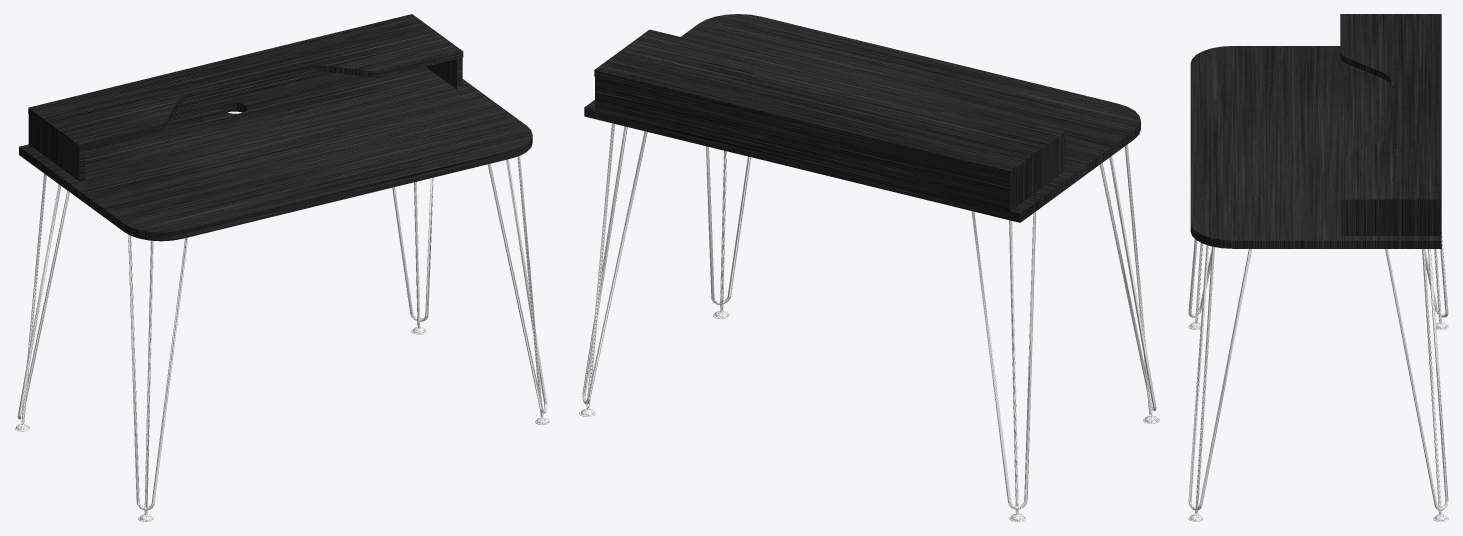
File: stol_beta2.gltf
The picture shows the model from 3 angles, left to right: view 1: azimuth 30°, elevation 25°; view 2: azimuth 150°, elevation 25°; view 3: azimuth 270°, elevation 25°; orthographic projection. The views are drawn at different scales.
Visible parts, largest first — view 1: test, VIFS028; view 2: test, VIFS028; view 3: test, VIFS028.
Boxes of the visible parts, x1=… form: test: x1=19, y1=14, x2=532, y2=241; VIFS028: x1=14, y1=156, x2=550, y2=521; test: x1=584, y1=14, x2=1140, y2=222; VIFS028: x1=579, y1=123, x2=1159, y2=521; test: x1=1190, y1=14, x2=1441, y2=248; VIFS028: x1=1188, y1=232, x2=1448, y2=521.
Bounding box in the file's own units: 112 × 83.3 × 62.21.
2 materials, 1 textured.
